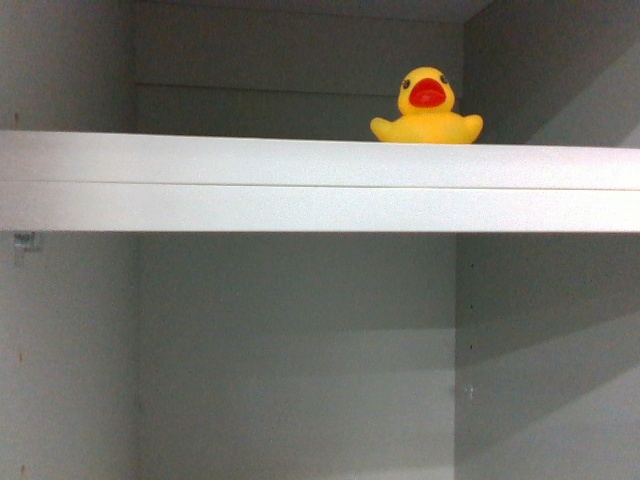duck: (365, 66, 487, 145)
